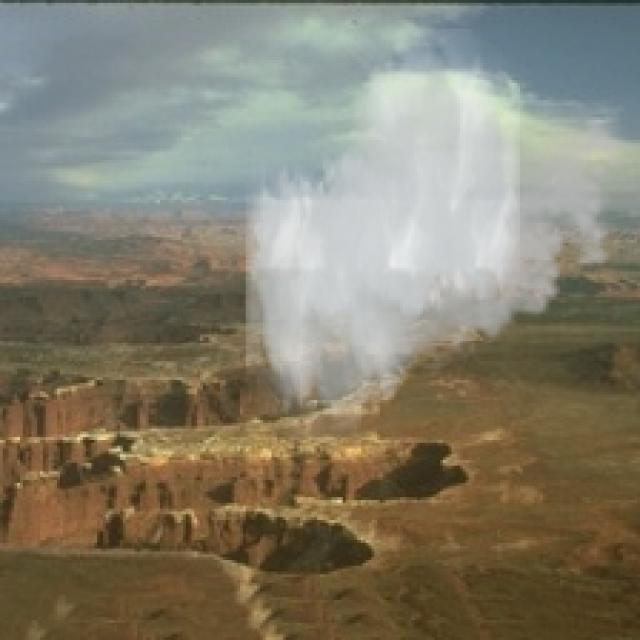Smoke: (246, 28, 634, 440)
